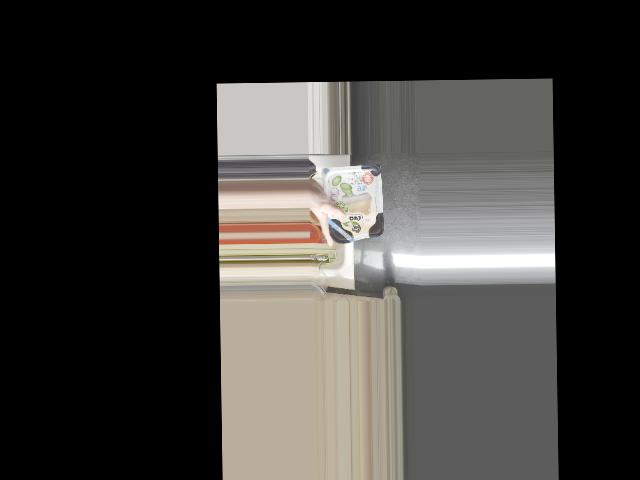cheese: (322, 167, 383, 244)
